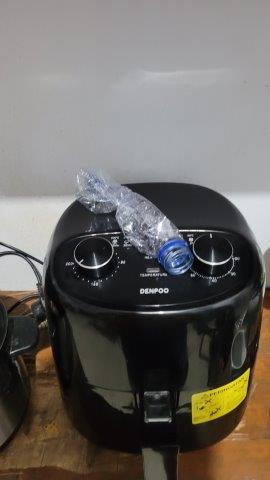botolplastik: (73, 165, 196, 275)
